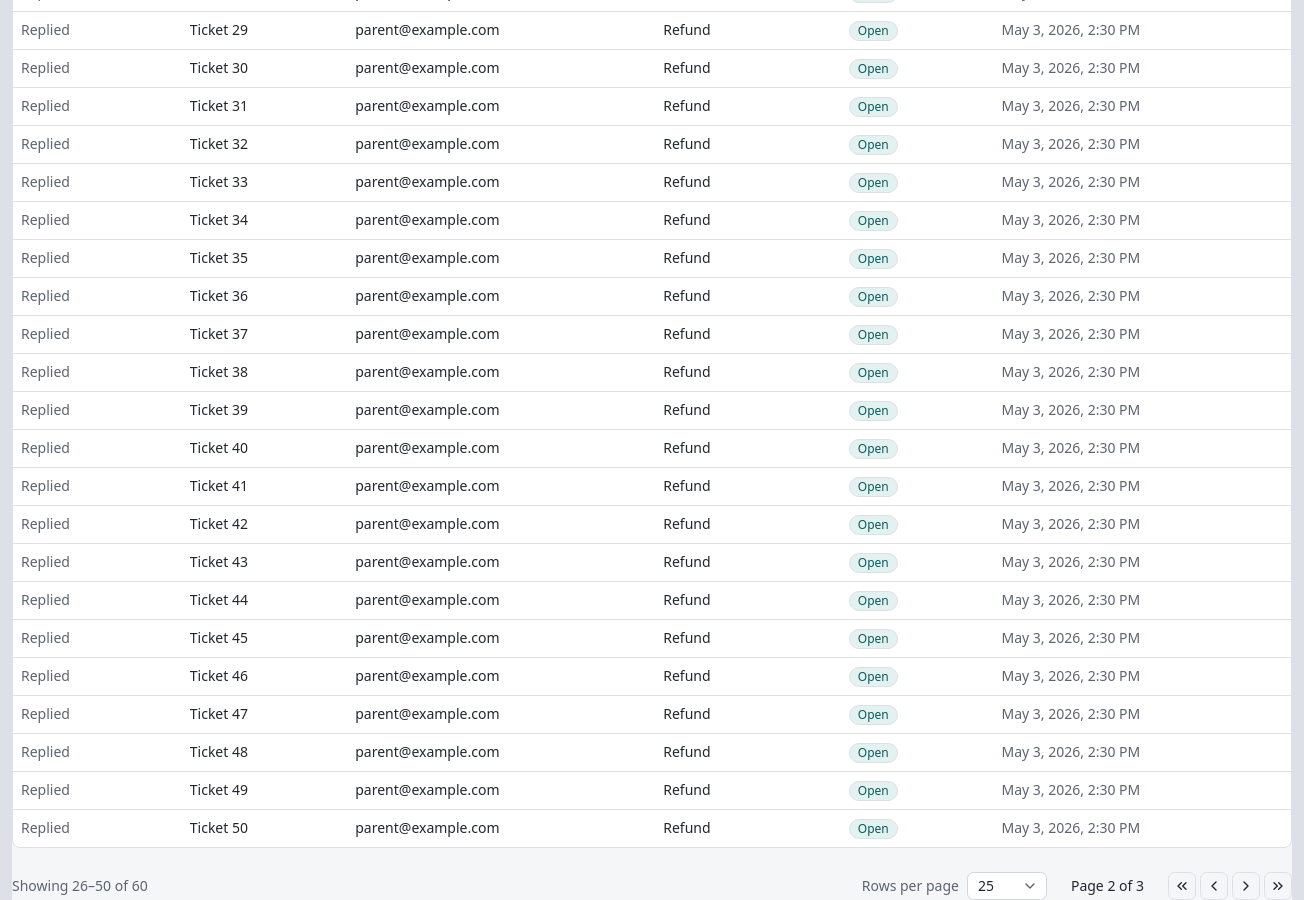
Scenario: TicketsPage › pagination › changing the page size goes back to the first page
(page scrolled)
Click the dropdown named "Rows per page".
click(1007, 886)  # box [967,872,1047,899]
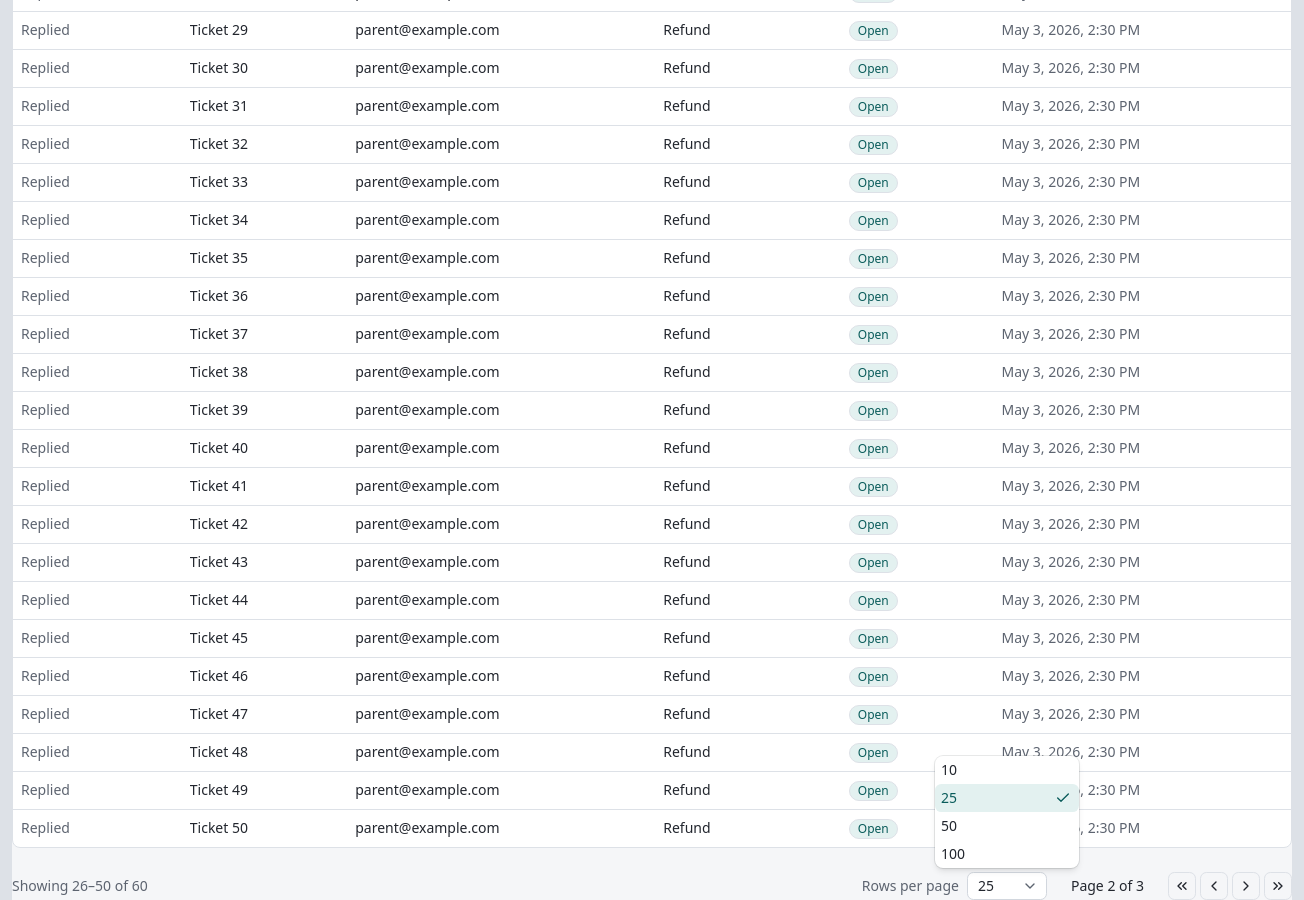
Click the option "50".
click(949, 826)  # box [941,816,957,835]
(page scrolled)
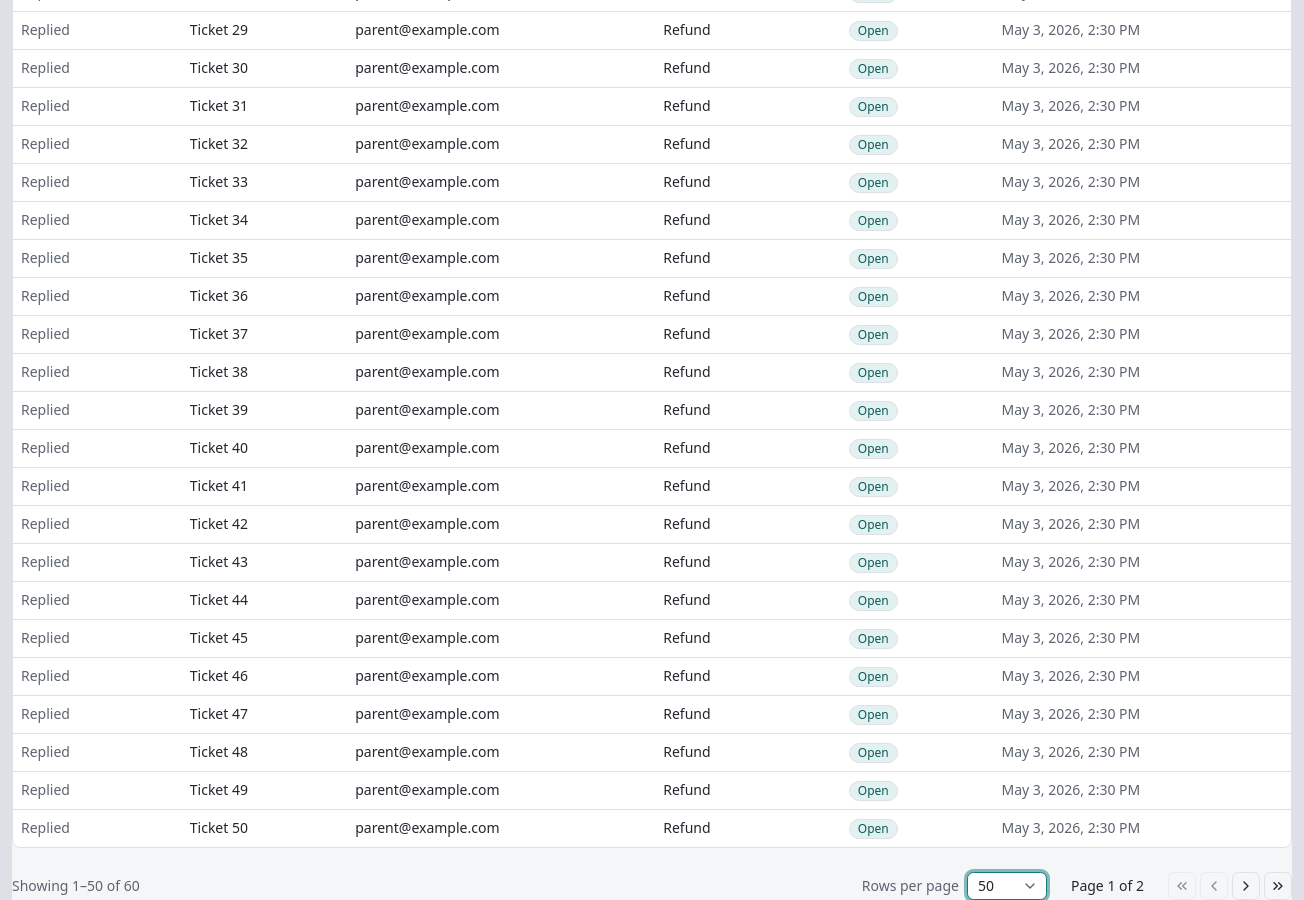
Expected: the text "Page 1 of 2" is shown, [1071,876,1144,896]
